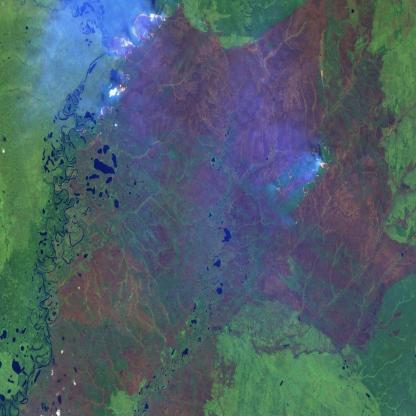fire: (104, 0, 176, 99), (314, 152, 334, 178)
